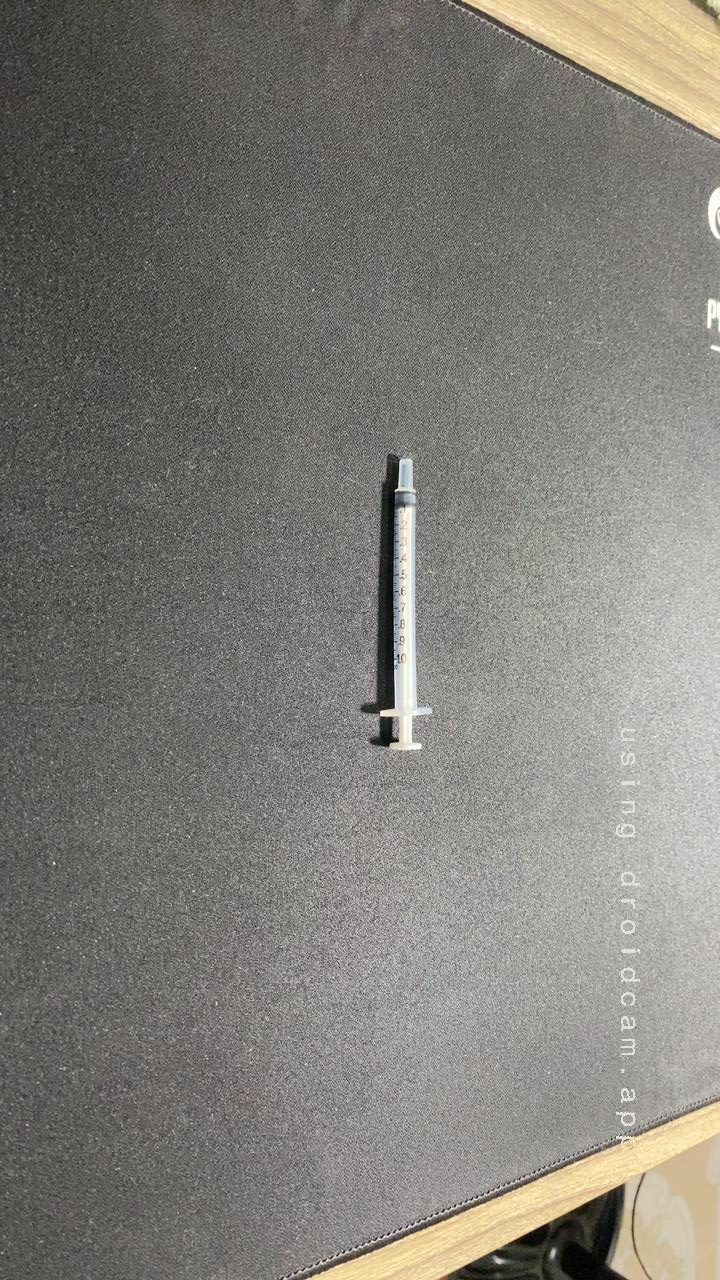syringe: (338, 445, 459, 759)
